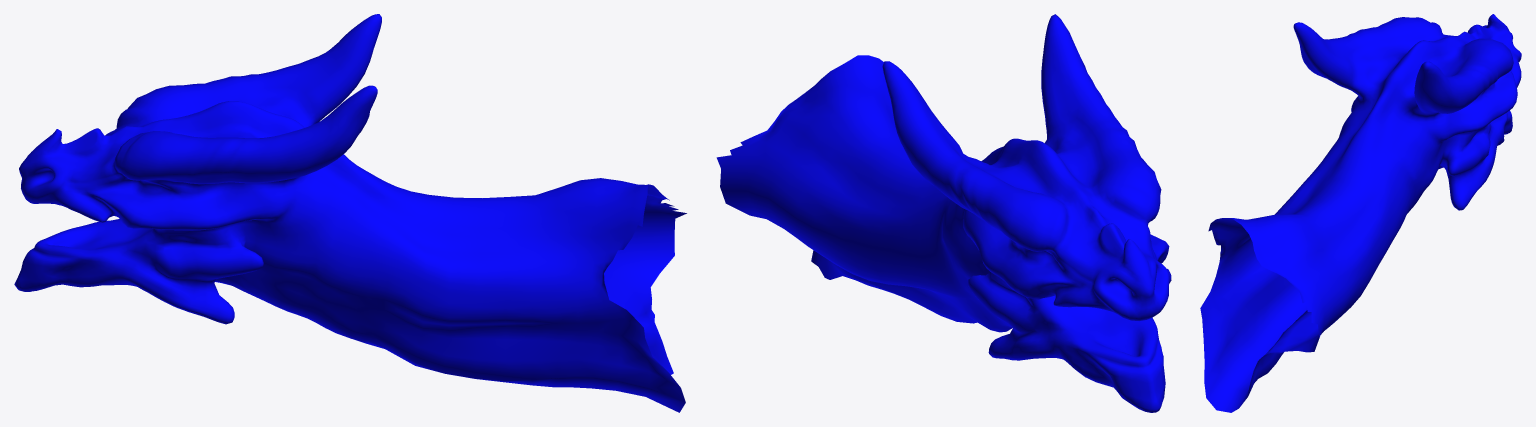
The model's file is cabeza_infDer.obj.
The picture shows the model from 3 angles, left to right: view 1: azimuth 30°, elevation 25°; view 2: azimuth 150°, elevation 25°; view 3: azimuth 270°, elevation 25°; orthographic projection. The views are drawn at different scales.
Parts seen in each view (by area): view 1: cabeza_infDer; view 2: cabeza_infDer; view 3: cabeza_infDer.
Part boxes in pixels (x1,y1,x2,y2): cabeza_infDer: (14, 14, 686, 412); cabeza_infDer: (716, 14, 1171, 412); cabeza_infDer: (1200, 14, 1521, 412).
Bounding box in the file's own units: 3.11 × 1.9 × 1.93.
1 material, 1 textured.
